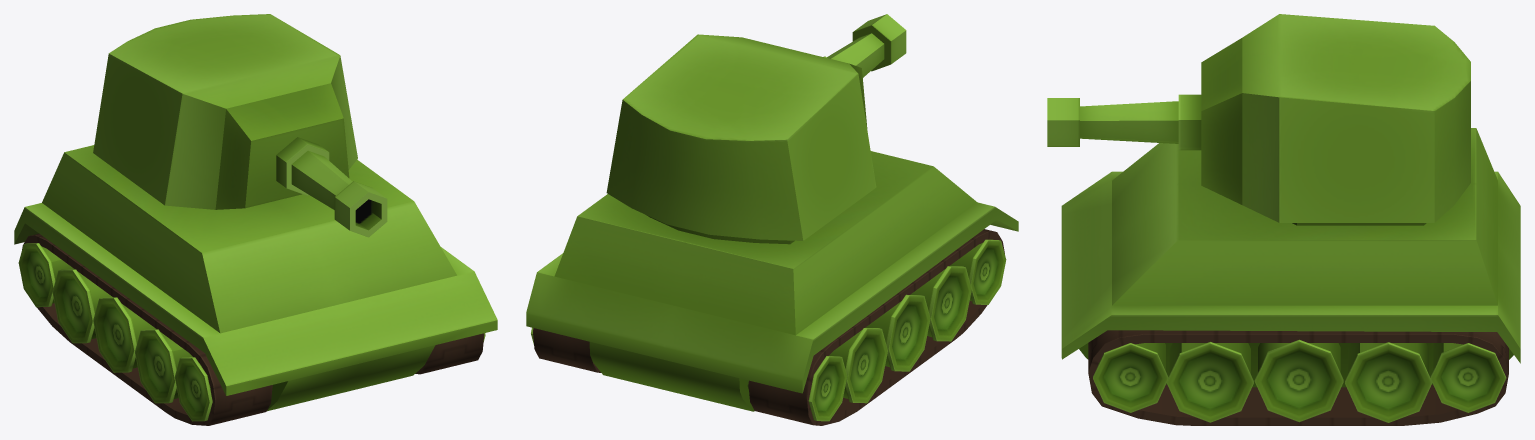
File: ENV2010073.fbx
The picture shows the model from 3 angles, left to right: view 1: azimuth 30°, elevation 25°; view 2: azimuth 150°, elevation 25°; view 3: azimuth 270°, elevation 25°; orthographic projection. The views are drawn at different scales.
Parts seen in each view (by area): view 1: smENV2010073; view 2: smENV2010073; view 3: smENV2010073.
Part boxes in pixels (x1,y1,x2,y2): smENV2010073: (14, 14, 497, 425); smENV2010073: (526, 14, 1018, 425); smENV2010073: (1047, 14, 1520, 425).
Size of the model in its own units: 14.32 by 13.67 by 19.6.
1 material, 1 textured.
